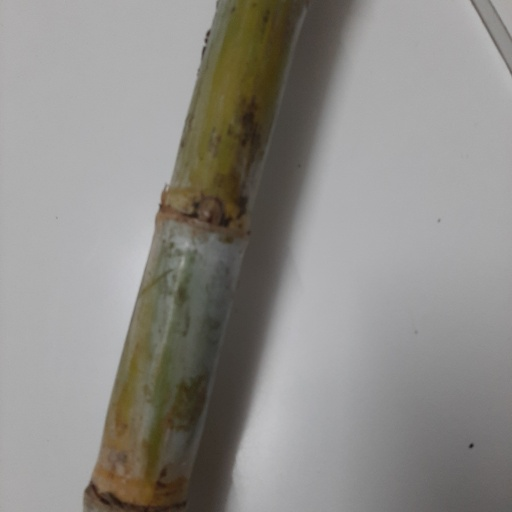Bud: (194, 197, 226, 226)
